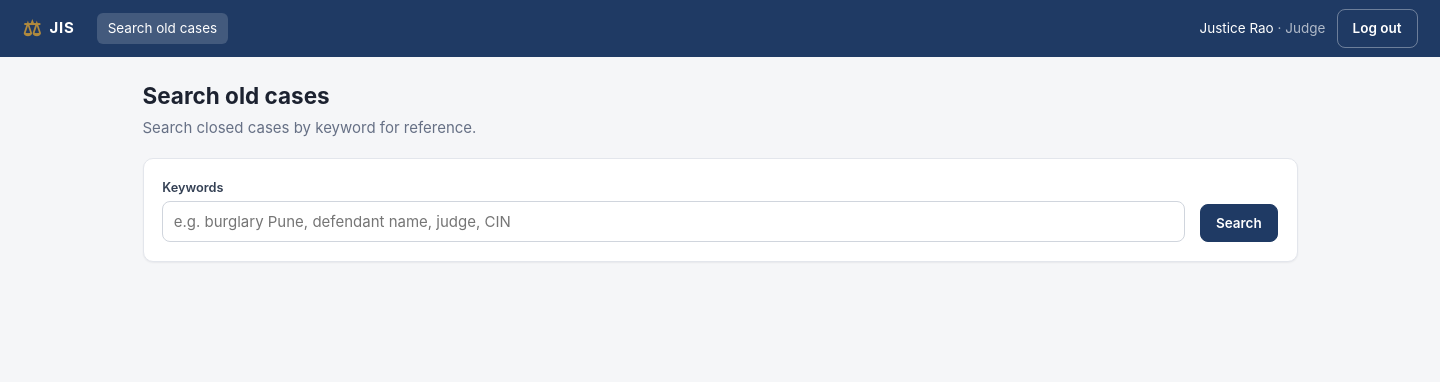
Test: old cases › keyword search with no results
Type "nothing" into the field labelled "Keywords". click: (674, 222)
box: [162,201,1185,242]
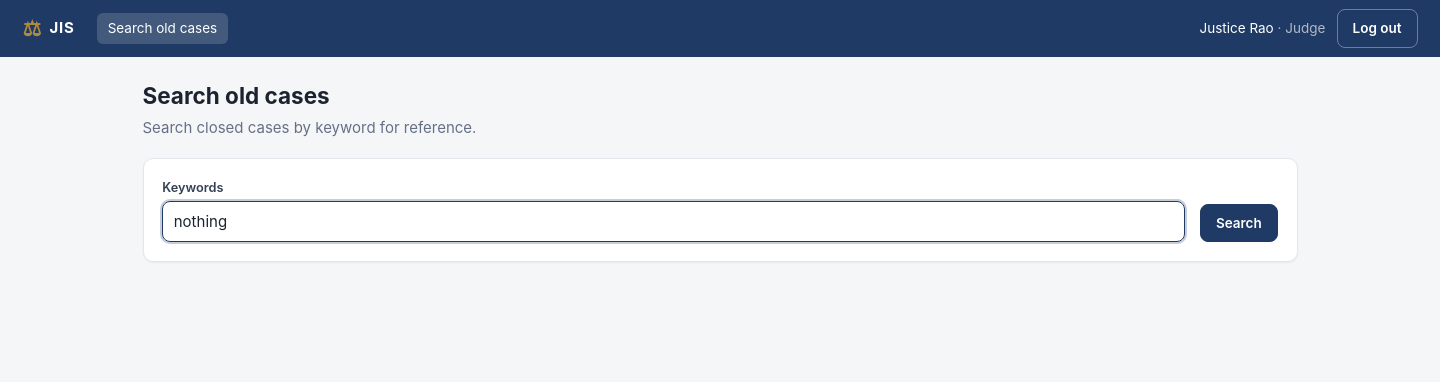
Click the button "Search". click: (1239, 223)
box: [1200,204,1278,242]
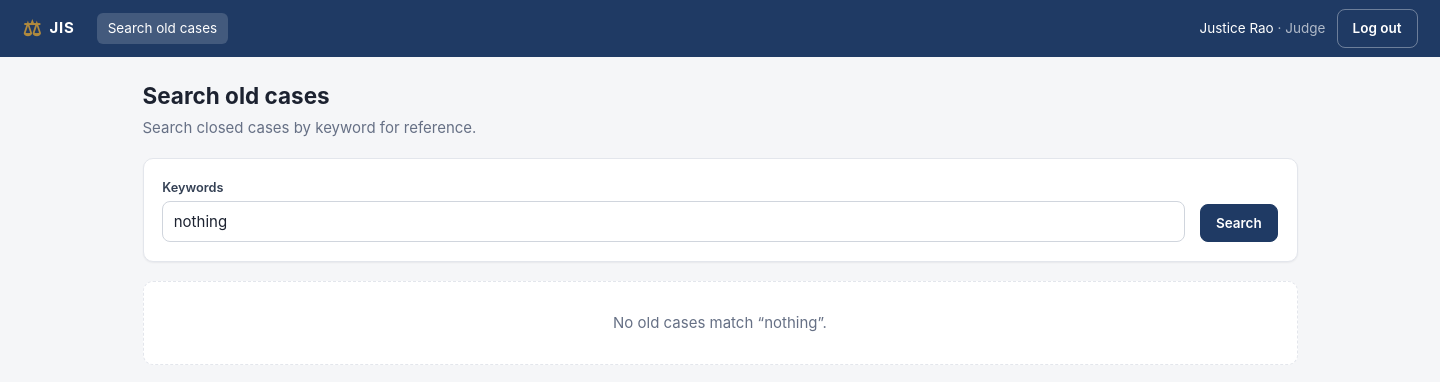
Expected: the text "No old cases match “nothing”." is shown, [142,281,1298,365]
